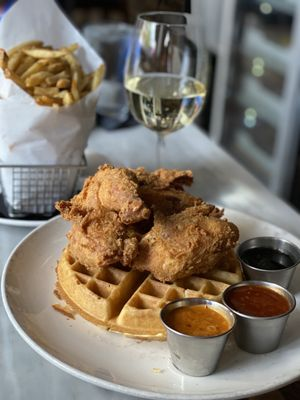pizza: (160, 297, 236, 378), (222, 280, 296, 354), (236, 236, 300, 291)
